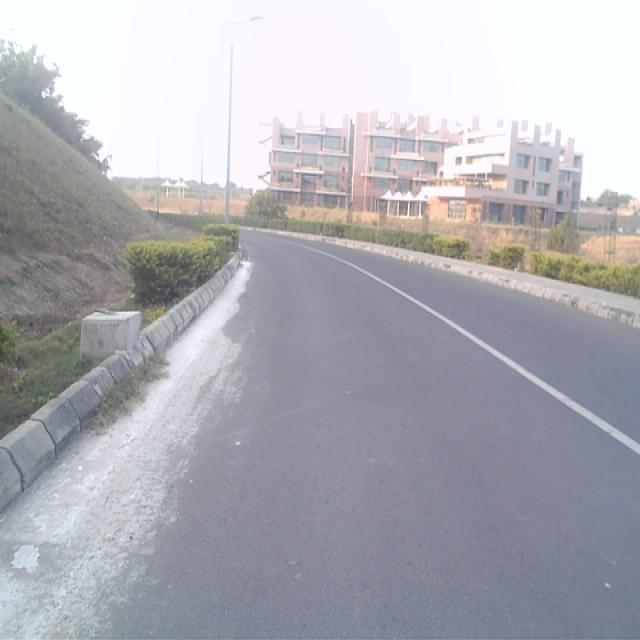lane: (1, 240, 640, 640)
